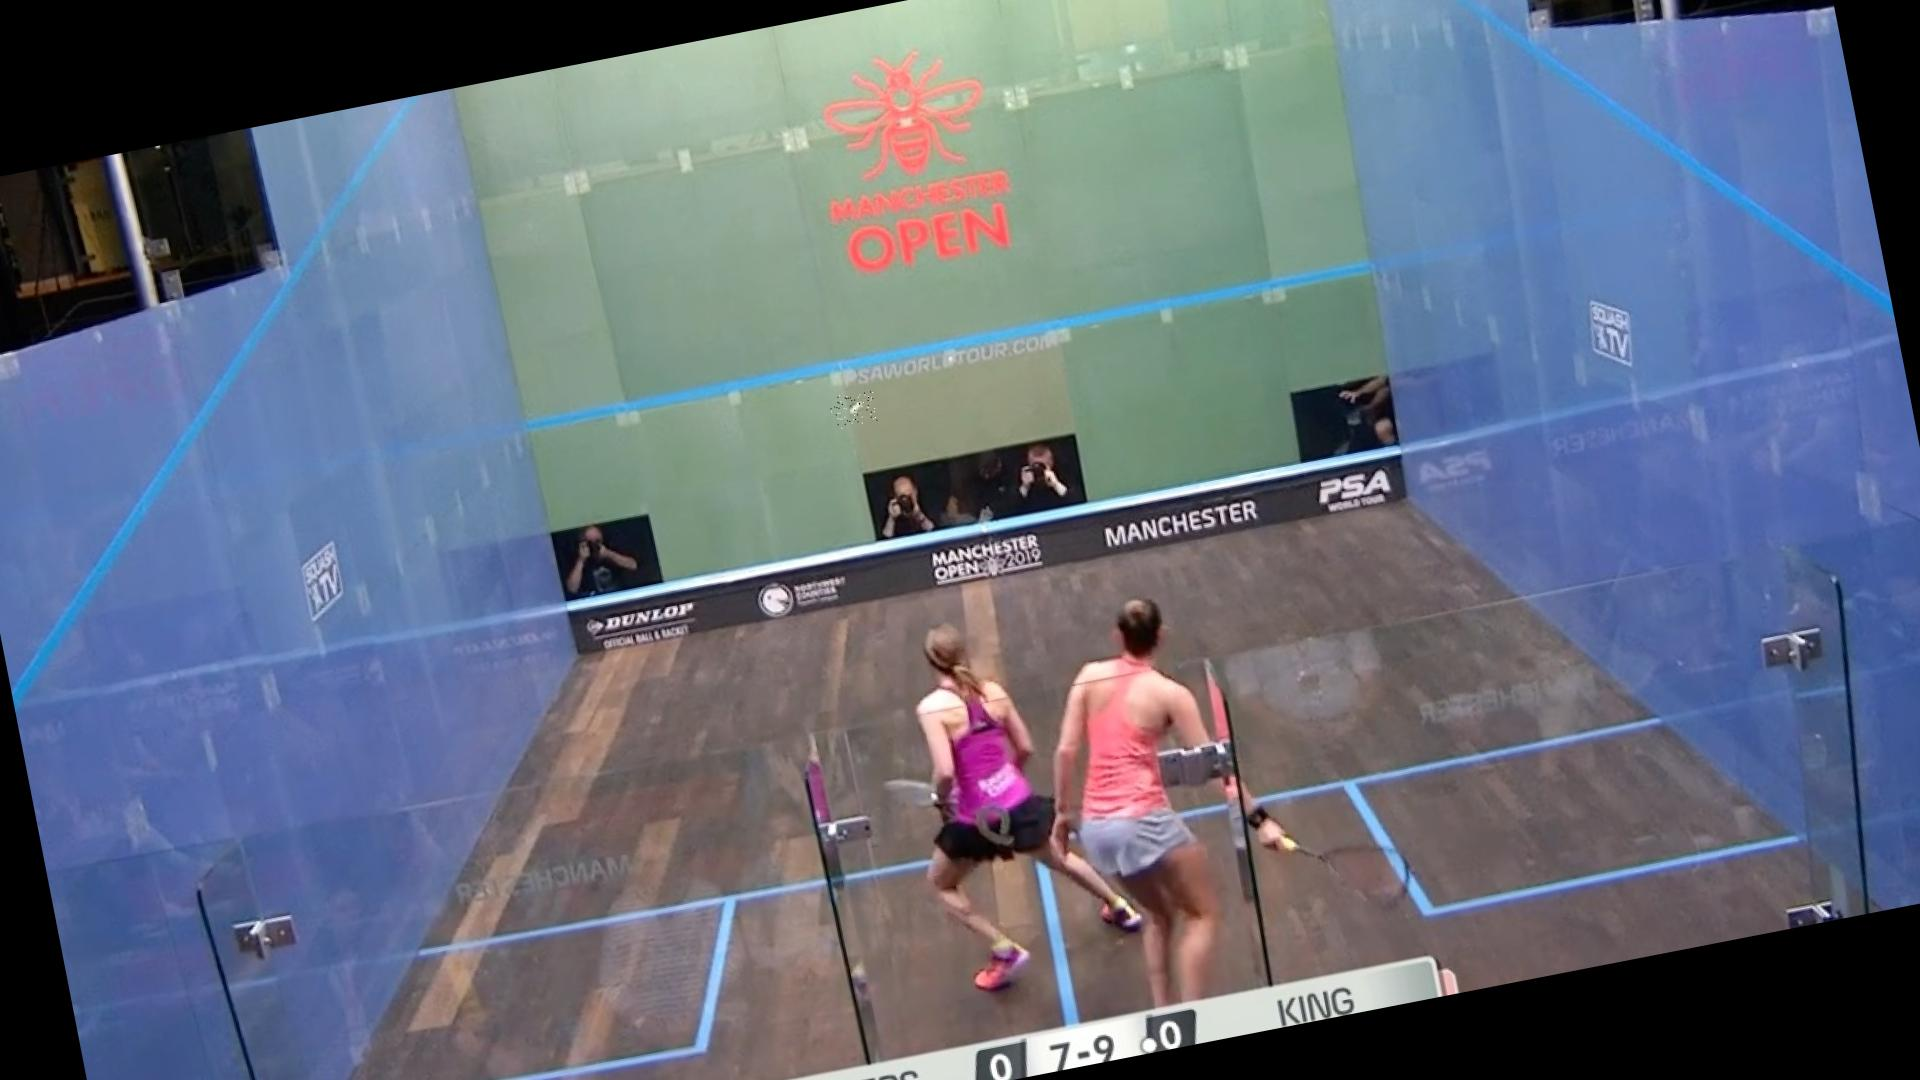Squash-Ball: (828, 389, 878, 430)
